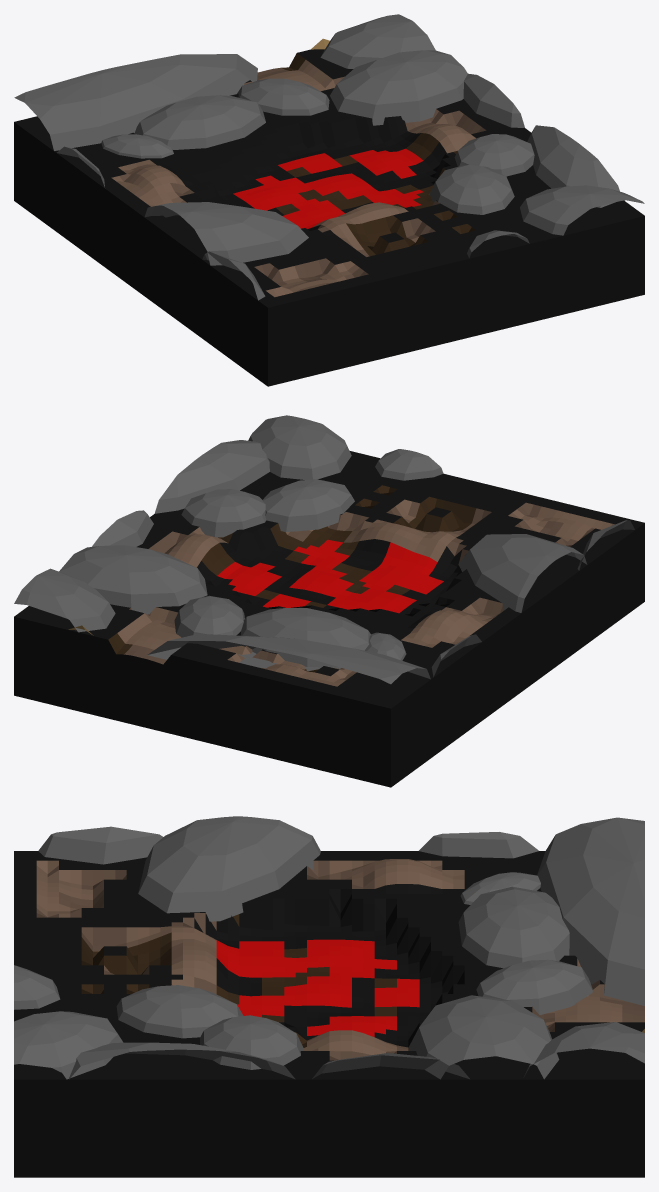
3 renders of one model, top to bottom at view 1: azimuth 30°, elevation 25°; view 2: azimuth 150°, elevation 25°; view 3: azimuth 270°, elevation 25°, orthographic. The views are drawn at different scales.
Parts seen in each view (by area): view 1: shapesz-t143; view 2: shapesz-t143; view 3: shapesz-t143.
Part boxes in pixels (x1,y1,x2,y2): shapesz-t143: [14, 14, 644, 386]; shapesz-t143: [14, 415, 644, 787]; shapesz-t143: [14, 816, 644, 1177].
Size of the model in its own units: 2 by 0.558 by 2.33.
